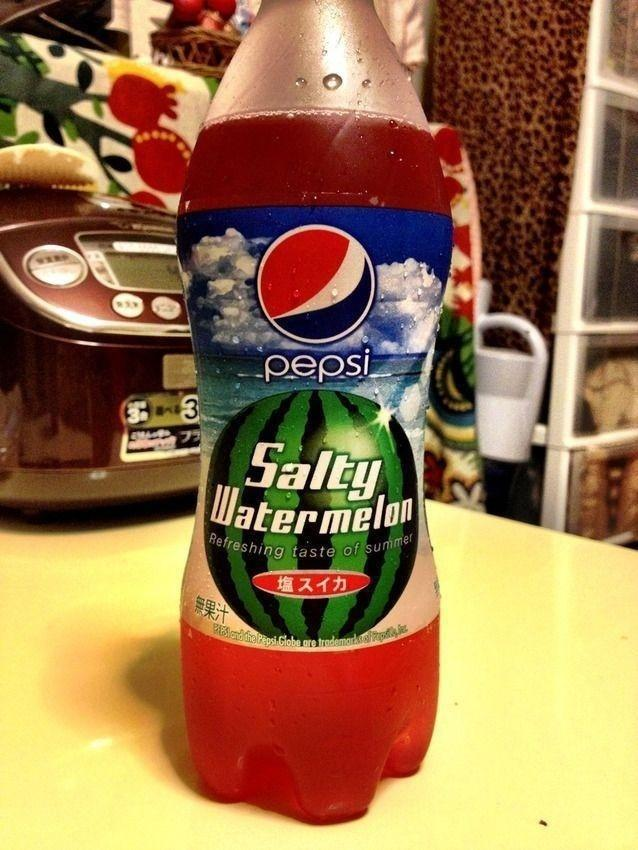bottle-plastic: (171, 0, 459, 832)
